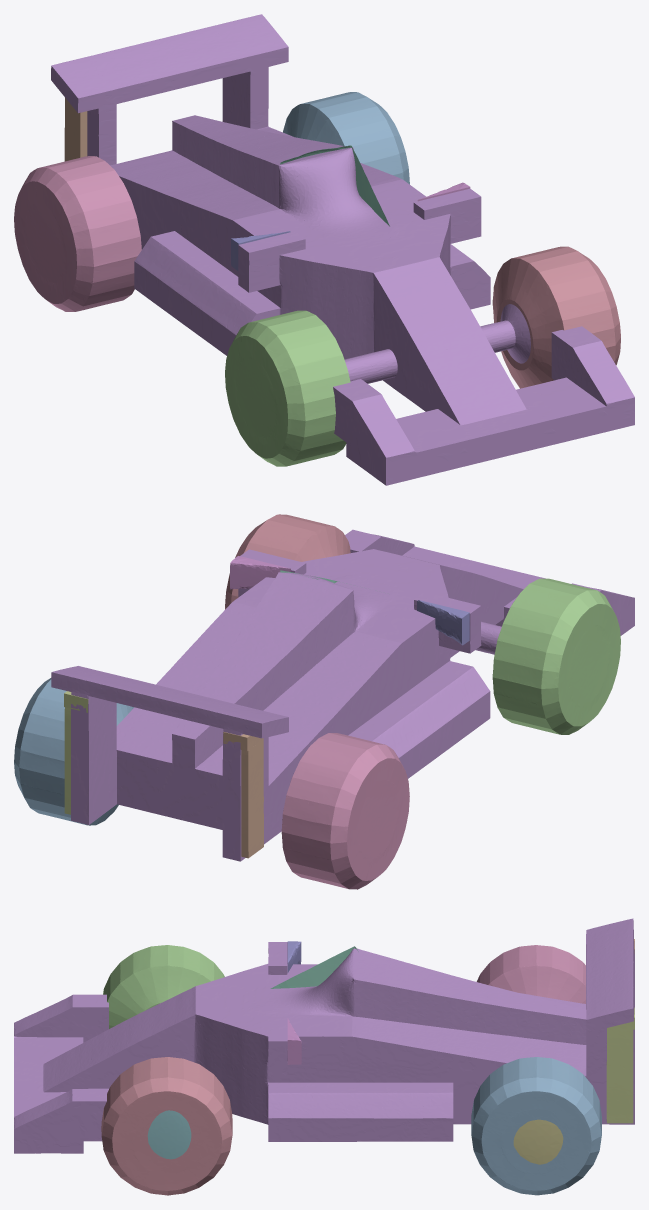
Rendered from sofa.glb.
3 views of the same model, one above another, from view 1: azimuth 30°, elevation 25°; view 2: azimuth 150°, elevation 25°; view 3: azimuth 270°, elevation 25° (orthographic). The views are drawn at different scales.
Parts seen in each view (by area): view 1: sofa_p2, sofa_p5, sofa_p6, sofa_p13, sofa_p12, sofa_p8, sofa_p9; view 2: sofa_p2, sofa_p6, sofa_p5, sofa_p12, sofa_p13, sofa_p8, sofa_p7, sofa_p10, sofa_p11; view 3: sofa_p2, sofa_p13, sofa_p12, sofa_p6, sofa_p5, sofa_p11, sofa_p3, sofa_p4, sofa_p9, sofa_p10.
Part boxes in pixels (x1=…): sofa_p2: x1=51, y1=14, x2=634, y2=485; sofa_p5: x1=14, y1=156, x2=141, y2=311; sofa_p6: x1=225, y1=310, x2=350, y2=466; sofa_p13: x1=492, y1=246, x2=620, y2=388; sofa_p12: x1=283, y1=92, x2=409, y2=184; sofa_p8: x1=64, y1=98, x2=87, y2=161; sofa_p9: x1=280, y1=145, x2=389, y2=226; sofa_p2: x1=51, y1=529, x2=634, y2=861; sofa_p6: x1=492, y1=578, x2=620, y2=734; sofa_p5: x1=281, y1=733, x2=409, y2=889; sofa_p12: x1=14, y1=678, x2=133, y2=825; sofa_p13: x1=225, y1=514, x2=350, y2=609; sofa_p8: x1=223, y1=732, x2=263, y2=858; sofa_p7: x1=417, y1=600, x2=469, y2=645; sofa_p10: x1=230, y1=556, x2=290, y2=589; sofa_p11: x1=64, y1=691, x2=88, y2=814; sofa_p2: x1=14, y1=918, x2=634, y2=1153; sofa_p13: x1=101, y1=1057, x2=232, y2=1195; sofa_p12: x1=471, y1=1057, x2=601, y2=1195; sofa_p6: x1=103, y1=945, x2=224, y2=1028; sofa_p5: x1=476, y1=945, x2=585, y2=1003; sofa_p11: x1=606, y1=1007, x2=634, y2=1123; sofa_p3: x1=513, y1=1119, x2=563, y2=1164; sofa_p4: x1=147, y1=1110, x2=191, y2=1159; sofa_p9: x1=270, y1=946, x2=358, y2=988; sofa_p10: x1=287, y1=1018, x2=301, y2=1064.
Bounding box in the file's own units: 0.5456 × 0.3006 × 1.
